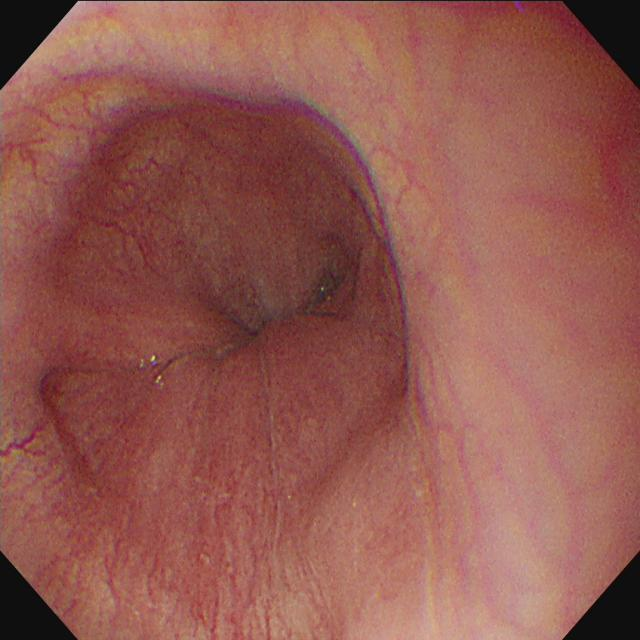I: (166, 218, 362, 389)
